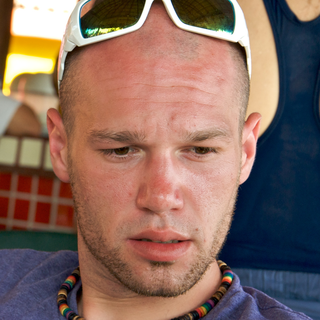eye: (92, 139, 147, 165), (175, 138, 224, 164)
